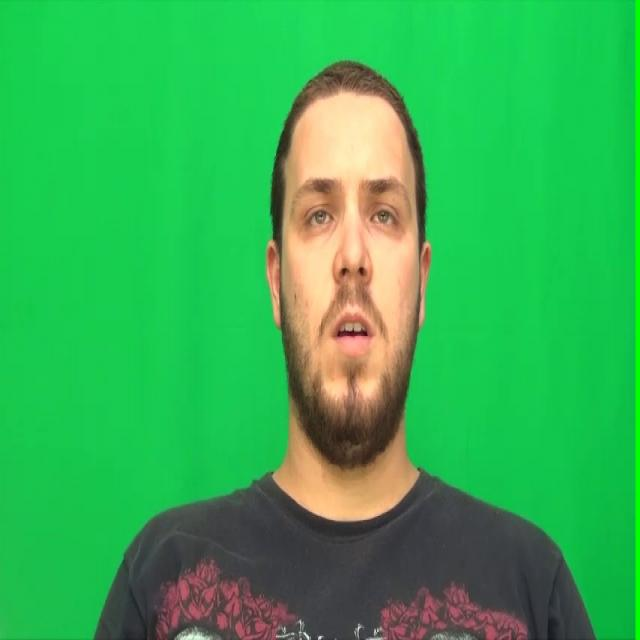Engaged: (281, 92, 417, 403)
